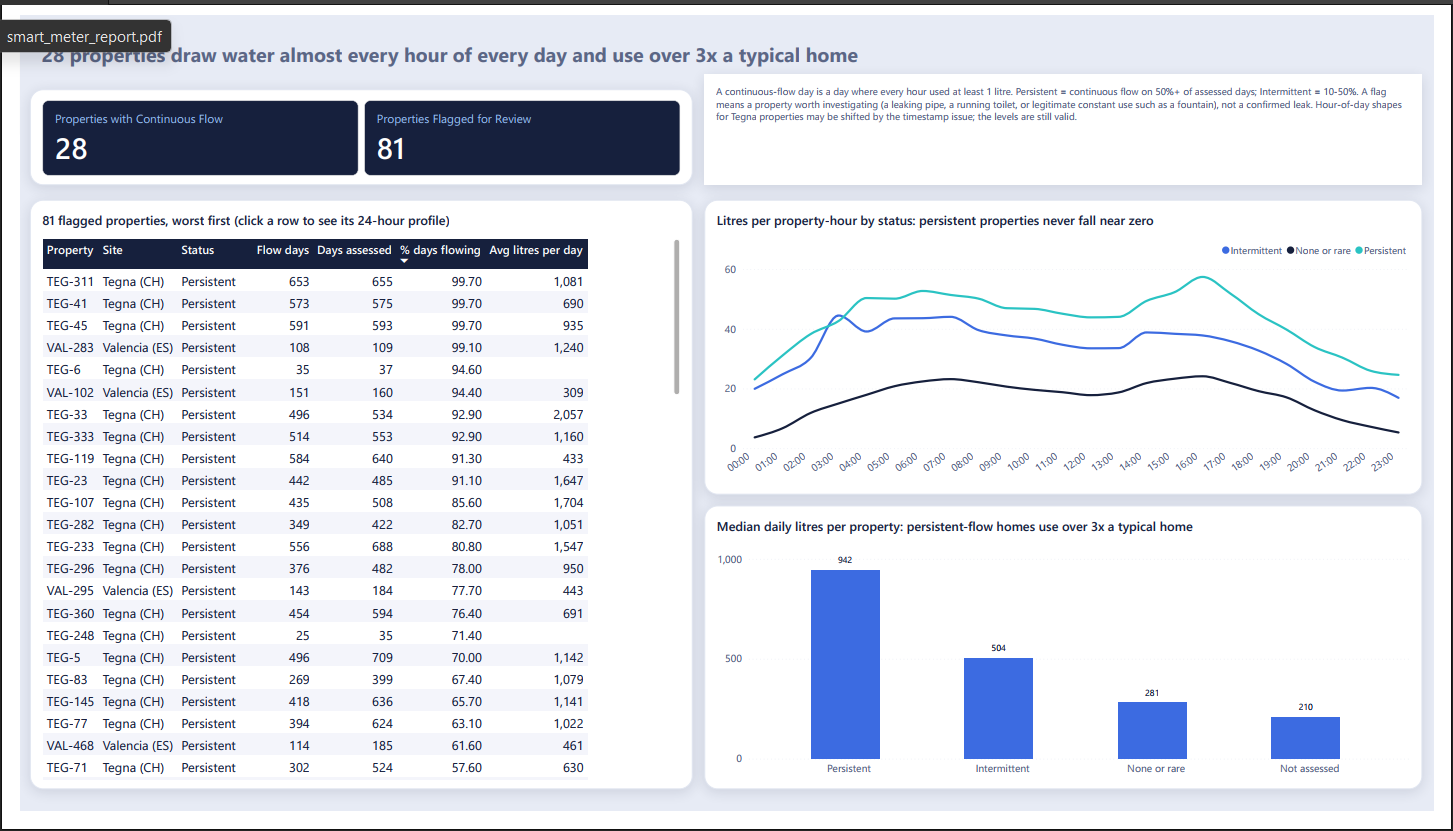

The page's visual inventory and layout, read from the dashboard file:
{"tool":"powerbi","page":{"name":"Continuous flow","canvas":[1920,1080],"ordinal":2},"visuals":[{"type":"tableEx","title":"81 flagged properties, worst first (click a row to see its 24-hour profile)","fields":{"Values":["DimProperty.meter_key","DimProperty.site_name","DimProperty.continuous_flow_status","Sum(DimProperty.continuous_flow_days)","Sum(DimProperty.complete_hourly_days)","Sum(DimProperty.continuous_flow_pct)","_Measures.Avg Daily Litres per Property"]},"box":[14,250,900,800],"z":0},{"type":"lineChart","title":"Litres per property-hour by status: persistent properties never fall near zero","fields":{"Category":["DimHour.hour_label"],"Series":["DimProperty.continuous_flow_status"],"Y":["_Measures.Avg Litres per Property Hour"]},"box":[930,250,975,400],"z":1},{"type":"clusteredColumnChart","title":"Median daily litres per property: persistent-flow homes use over 3x a typical home","fields":{"Category":["DimProperty.continuous_flow_status"],"Y":["_Measures.Median Daily Litres per Property"]},"box":[930,665,975,385],"z":2},{"type":"cardVisual","fields":{"Data":["_Measures.Properties with Continuous Flow","_Measures.Properties Flagged for Review"]},"box":[14,100,900,130],"z":3},{"type":"textbox","box":[930,80,975,150],"z":4},{"type":"textbox","box":[14,20,1400,70],"z":5}]}

Visuals, with their boxes on the page's 1920x1080 design canvas (x1, y1, x2, y2). These are canvas units, not pixel positions in the 1453x831 screenshot, which may show the page scaled, cropped or inside an application window:
"81 flagged properties, worst first (click a row to see its 24-hour profile)" tableEx: rect(14, 250, 914, 1050)
"Litres per property-hour by status: persistent properties never fall near zero" lineChart: rect(930, 250, 1905, 650)
"Median daily litres per property: persistent-flow homes use over 3x a typical home" clusteredColumnChart: rect(930, 665, 1905, 1050)
cardVisual - _Measures.Properties with Continuous Flow x _Measures.Properties Flagged for Review: rect(14, 100, 914, 230)
textbox: rect(930, 80, 1905, 230)
textbox: rect(14, 20, 1414, 90)
